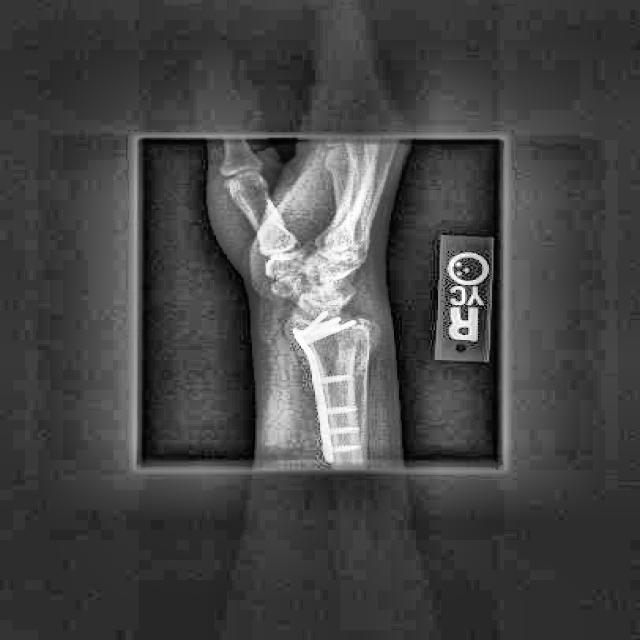wrist positive: (327, 310, 385, 369)
